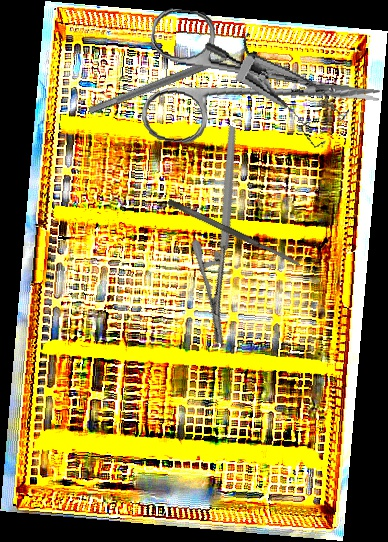Fixation Ring: (84, 31, 259, 124)
Iris Scissors: (138, 6, 388, 166)
Needle Holder: (149, 125, 304, 345)
Spatula Surgical: (166, 197, 302, 269)
Speculum: (186, 39, 358, 155)
